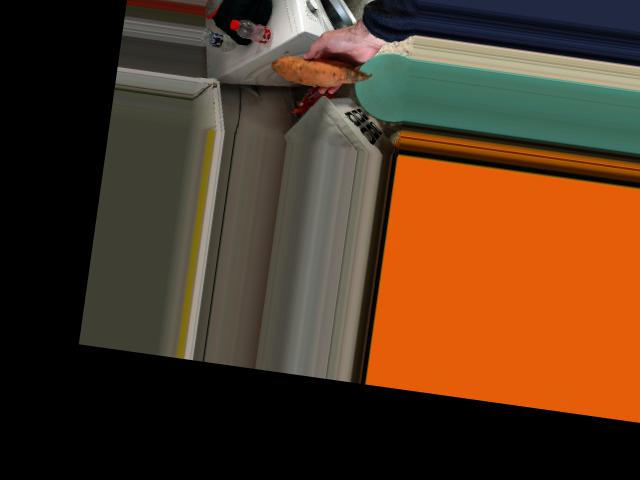sweet_potato: (282, 47, 354, 86)
